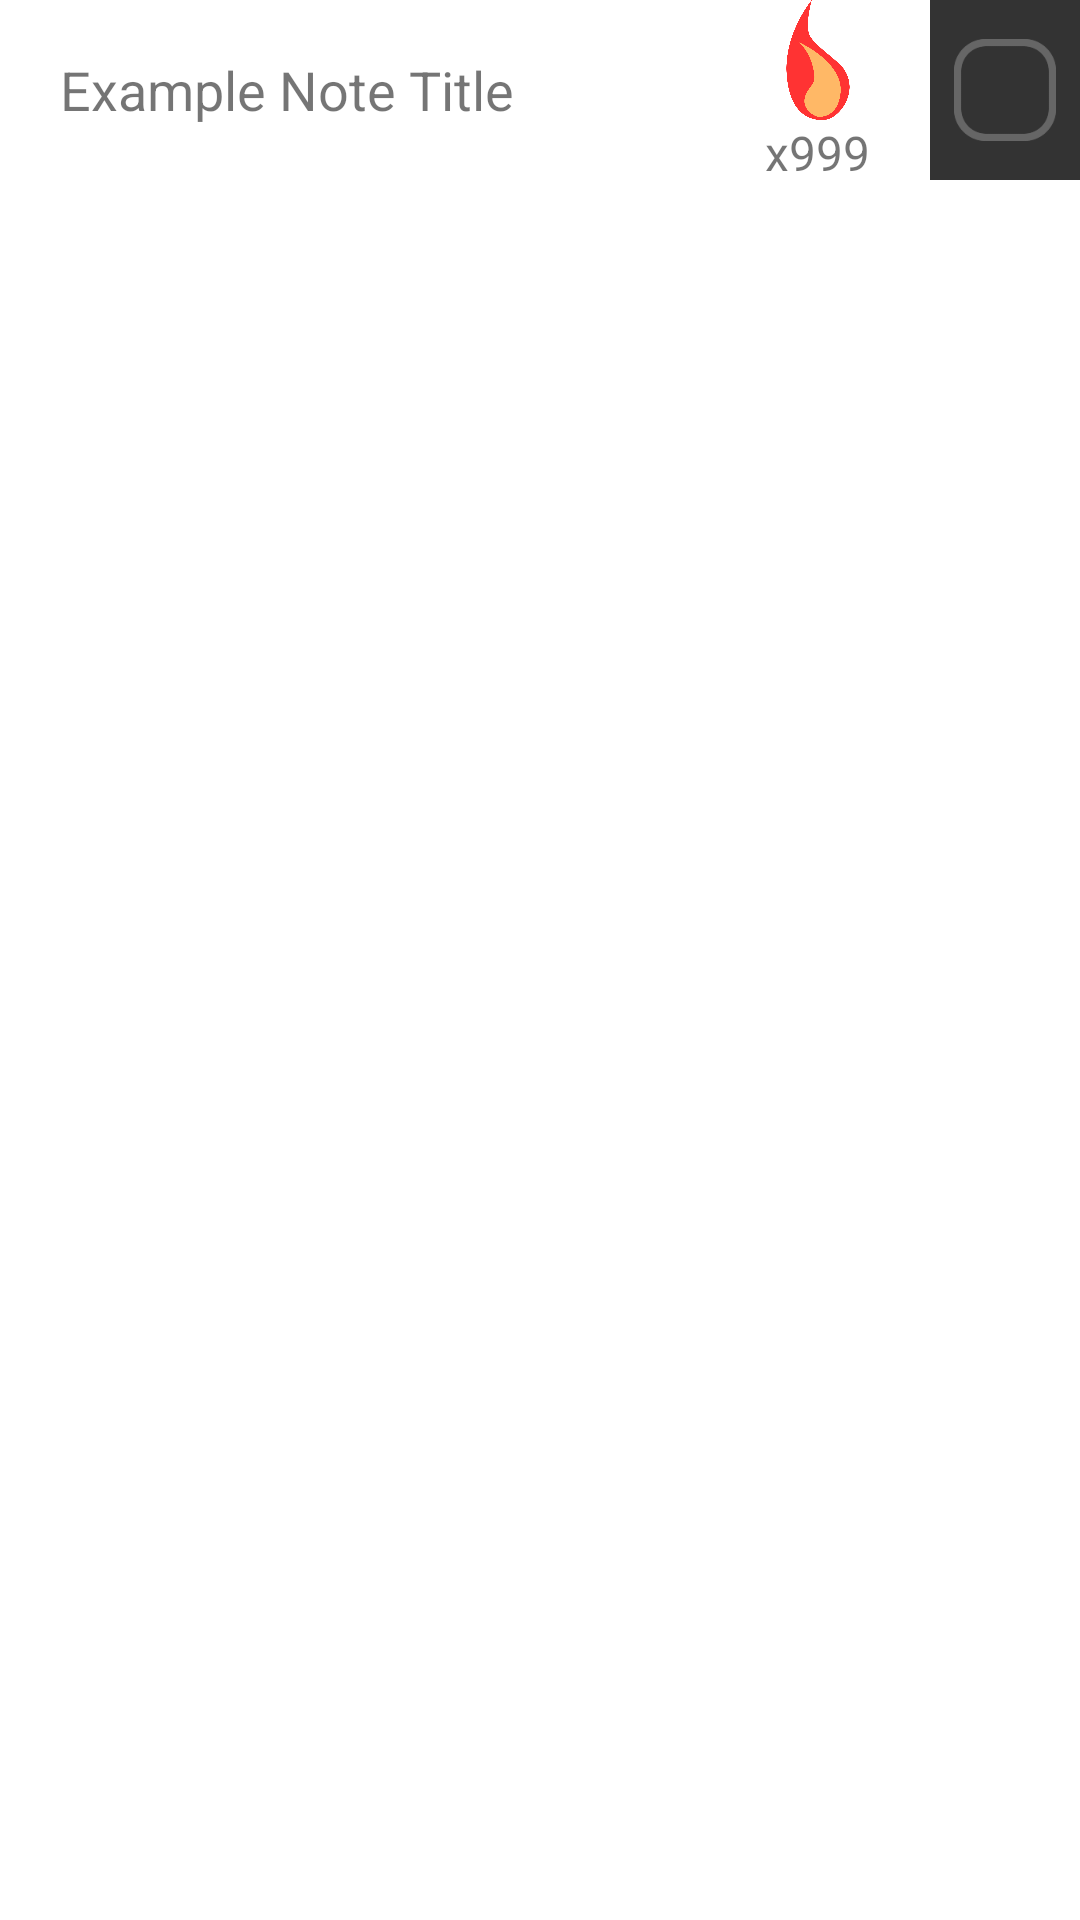

Where icons sit on this 1080px×1920px app screen, as region(x1, y1, x2, y2):
Checkbox for the note: region(930, 0, 1080, 180)
streak fire: region(786, 0, 850, 120)
